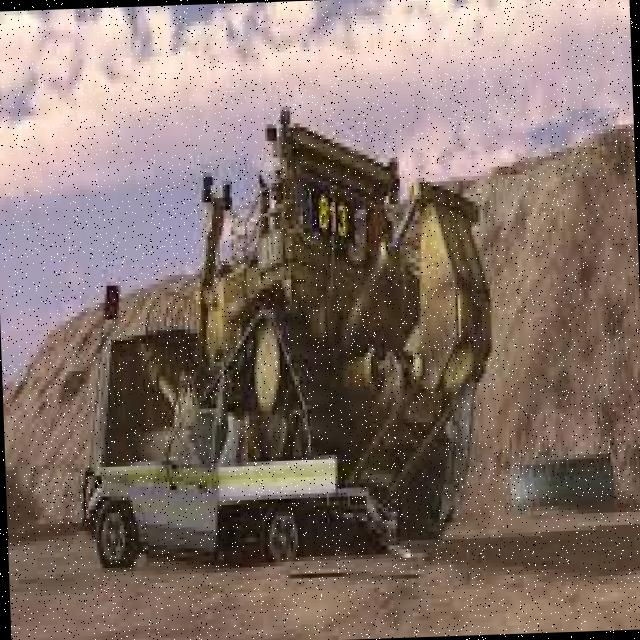Bulldozer: (144, 90, 536, 578)
